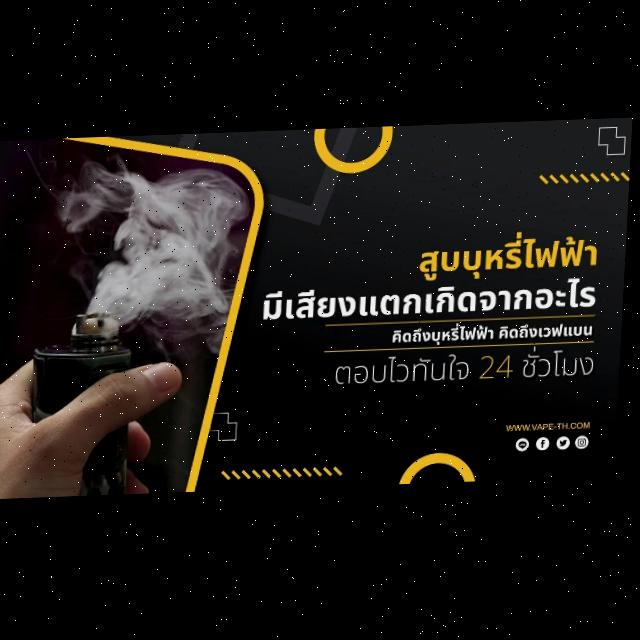vape: (33, 312, 140, 498)
